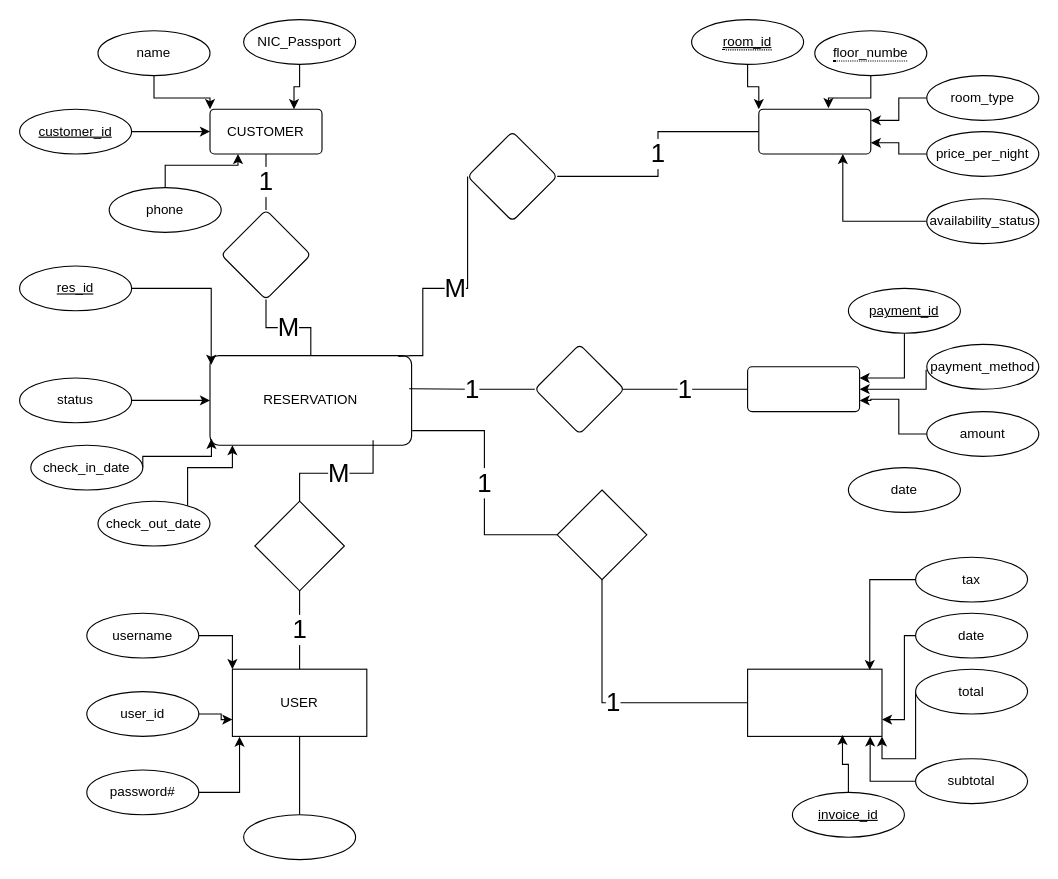
The diagram is 1058 pixels wide and 879 high, and some of its shapes have lost their labels. Here are the shapes that lost their labels. From the top down, the box of each, then its label:
(758, 108, 871, 154): ROOM
(466, 130, 557, 221): RESERVE
(220, 209, 311, 300): Make
(534, 343, 624, 434): generates
(746, 366, 860, 412): PAYMENT
(254, 500, 344, 591): Manage
(556, 489, 647, 580): produce
(746, 668, 882, 736): INVOICE
(242, 814, 356, 860): role
